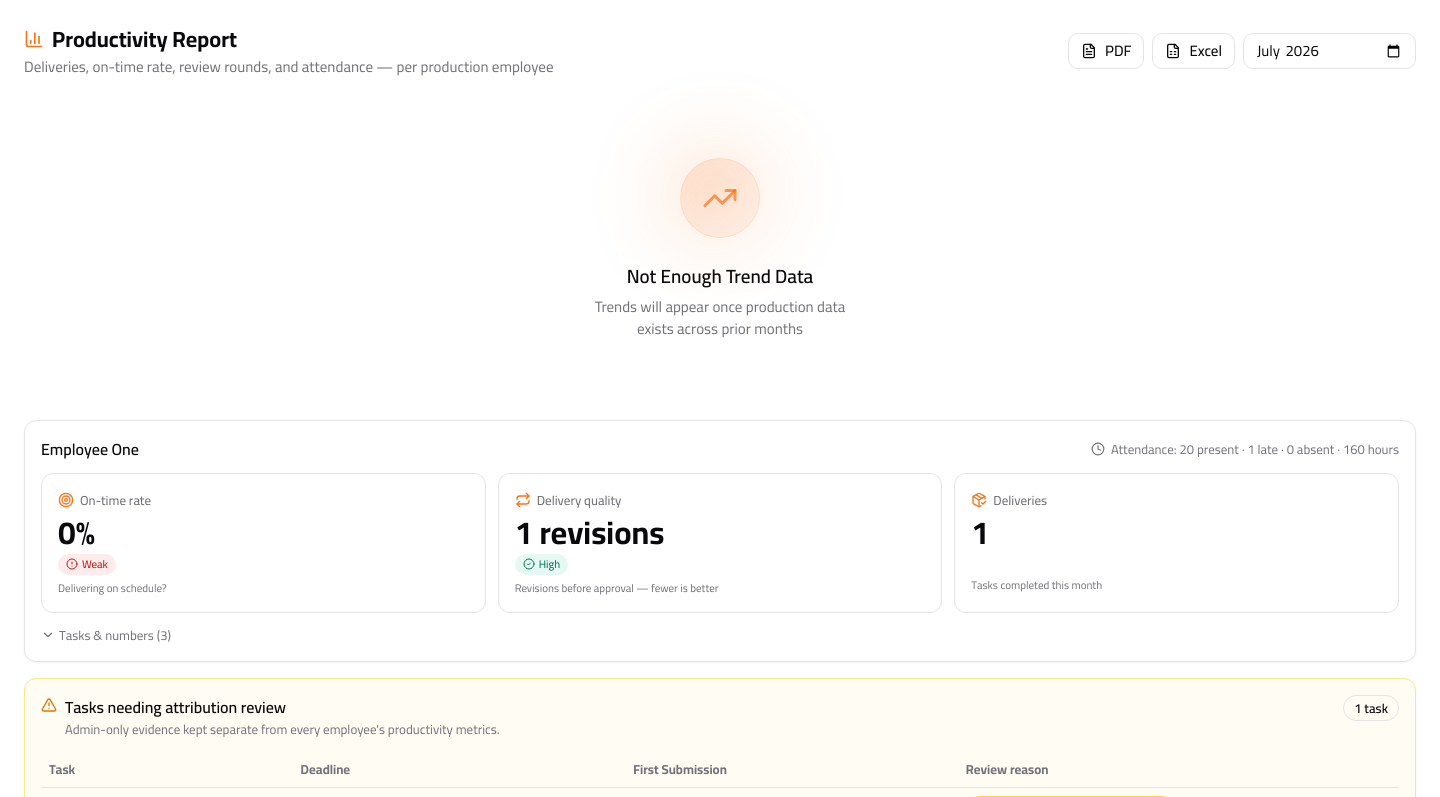
Scenario: admin productivity audit UI › shows exact Dubai first-submission time and a truthful same-day late label
This screenshot has width=1440, height=797.
Click the button "Tasks & numbers (3)": [106, 635] box [41,625,171,645]
(page scrolled)
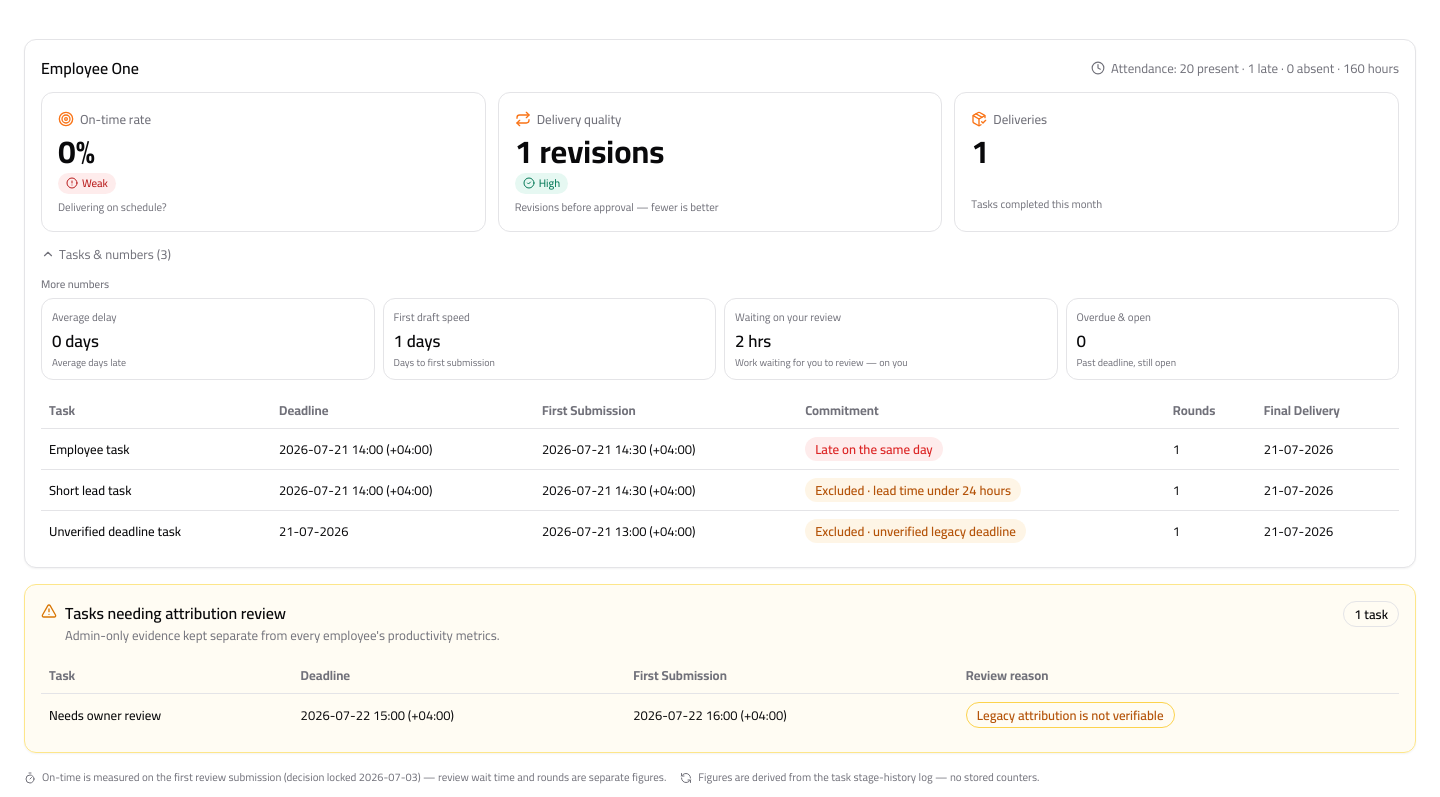
Check: the text "2026-07-21 14:30 (+04:00)" in the row of "Employee task" is shown, box [542,437,695,461]
Check: the text "Late on the same day" is shown, box [805,437,943,461]
